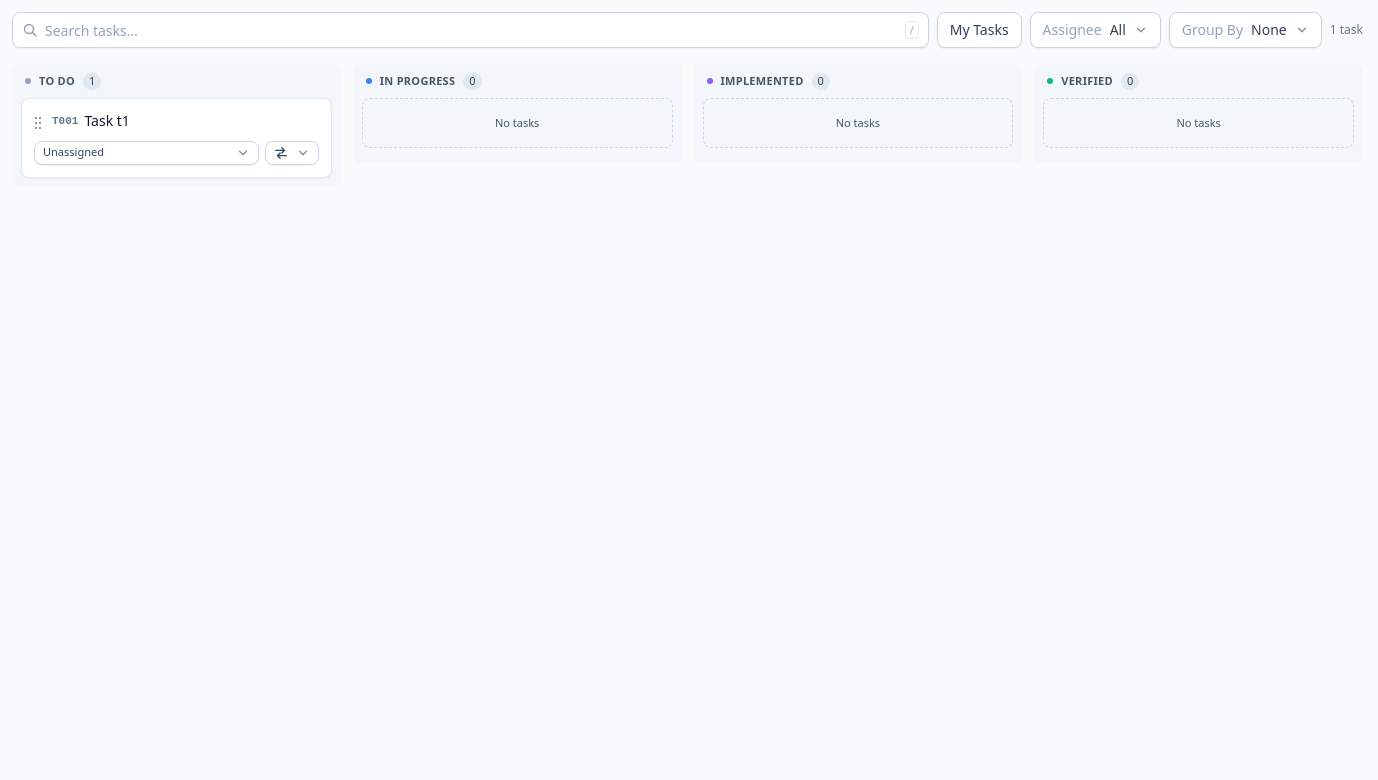
TaskBoard assignment › rolls back and explains the failure in a toast
Expected: the button "Task t1" is shown, [84,110,319,130]
Click the dropdown named "Assignee for" at (146, 152), box [34,140,259,164]
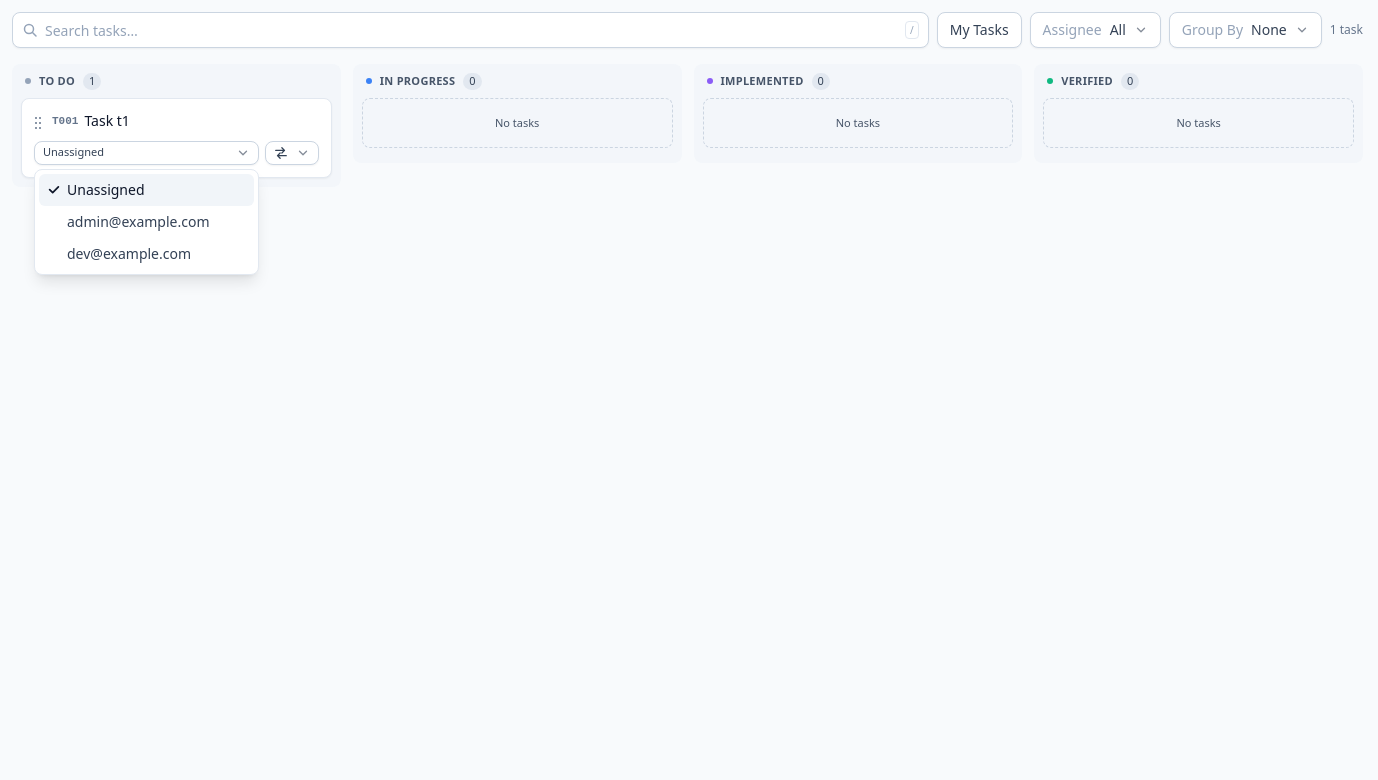
Click the option "dev@example.com" at (129, 254), box [67,244,191,263]
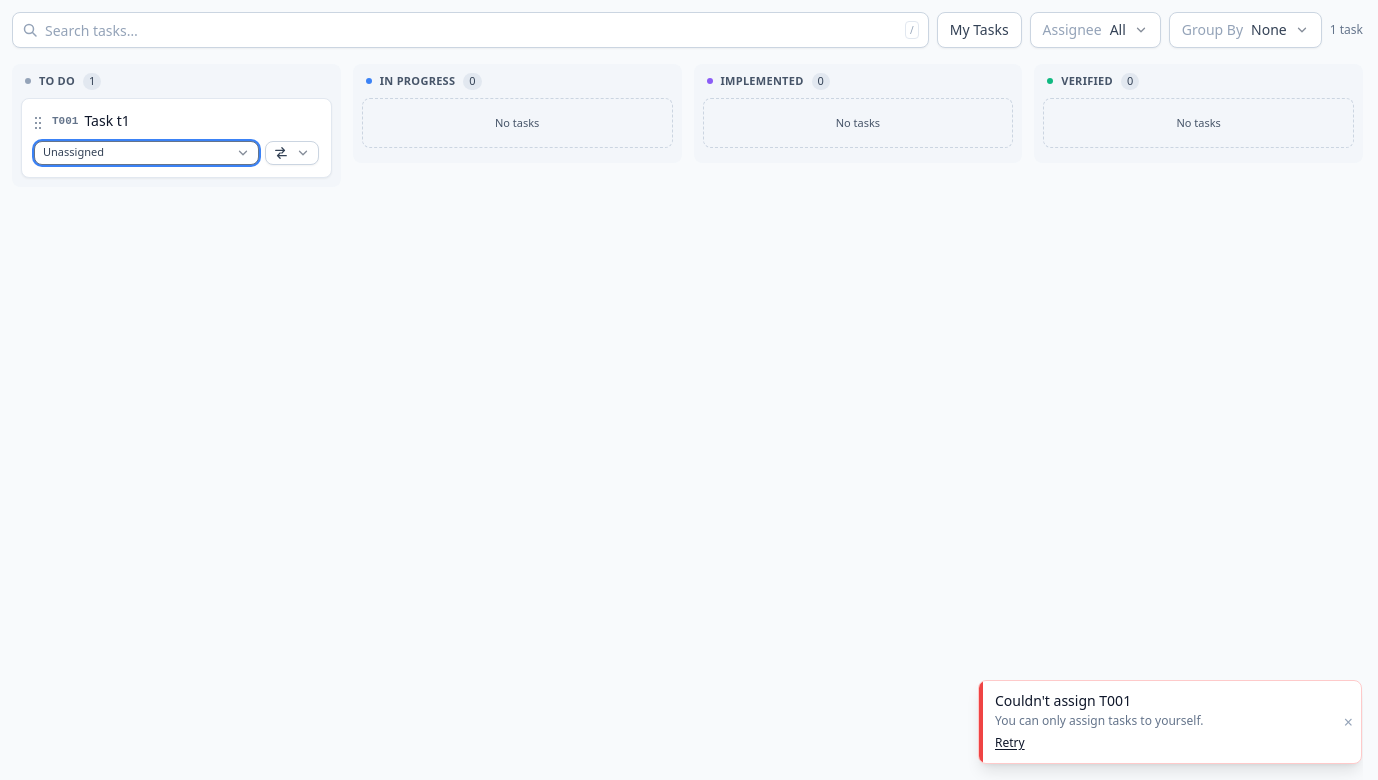
Expected: the dropdown named "Assignee for" reads "Unassigned", [34,140,259,164]
Now the element named "Notifications" shows "Couldn't assign T001", box [995,691,1131,710]
Now the element named "Notifications" shows "You can only assign tasks to yourself.", box [995,712,1204,729]
